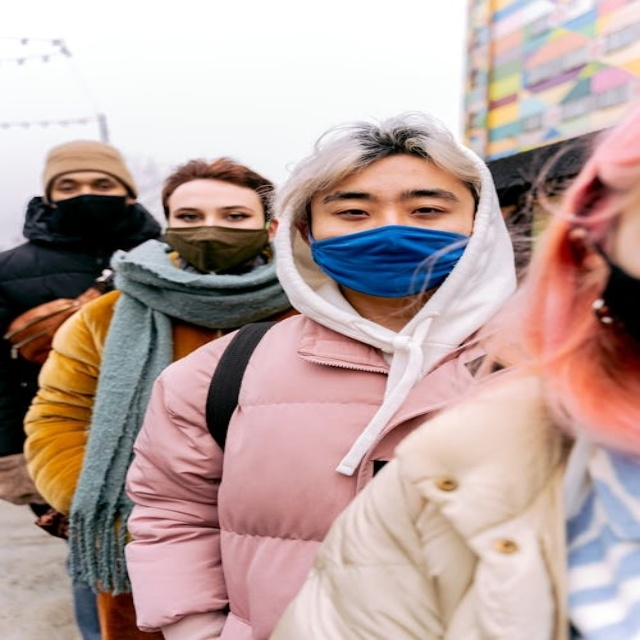Mascara: (298, 225, 467, 297), (586, 240, 637, 369), (161, 223, 268, 273), (46, 194, 129, 230)
Sin_gafas: (317, 189, 465, 223), (49, 175, 120, 195), (173, 204, 251, 221)
